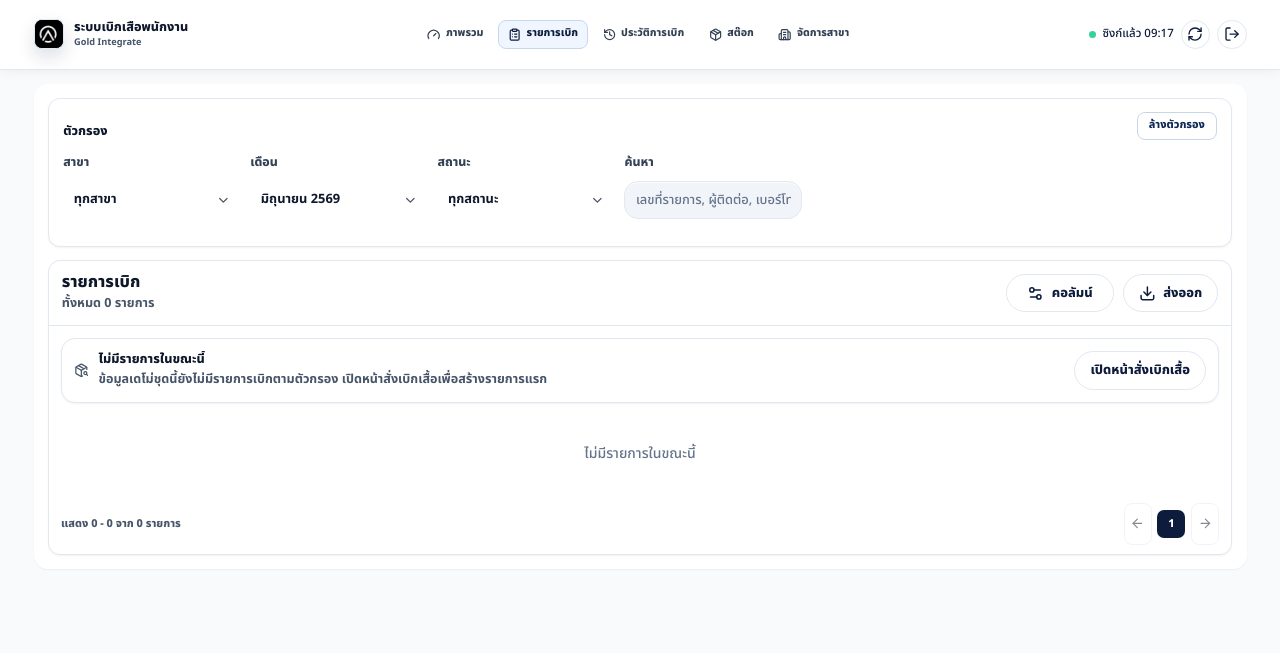
Test: dashboard workflow › shows the overview empty state and quick link for a new demo dataset
The width and height of the screenshot is (1280, 653).
Step 1. Click the button "ภาพรวม" → [455, 34], box left=417, top=20, right=494, bottom=49
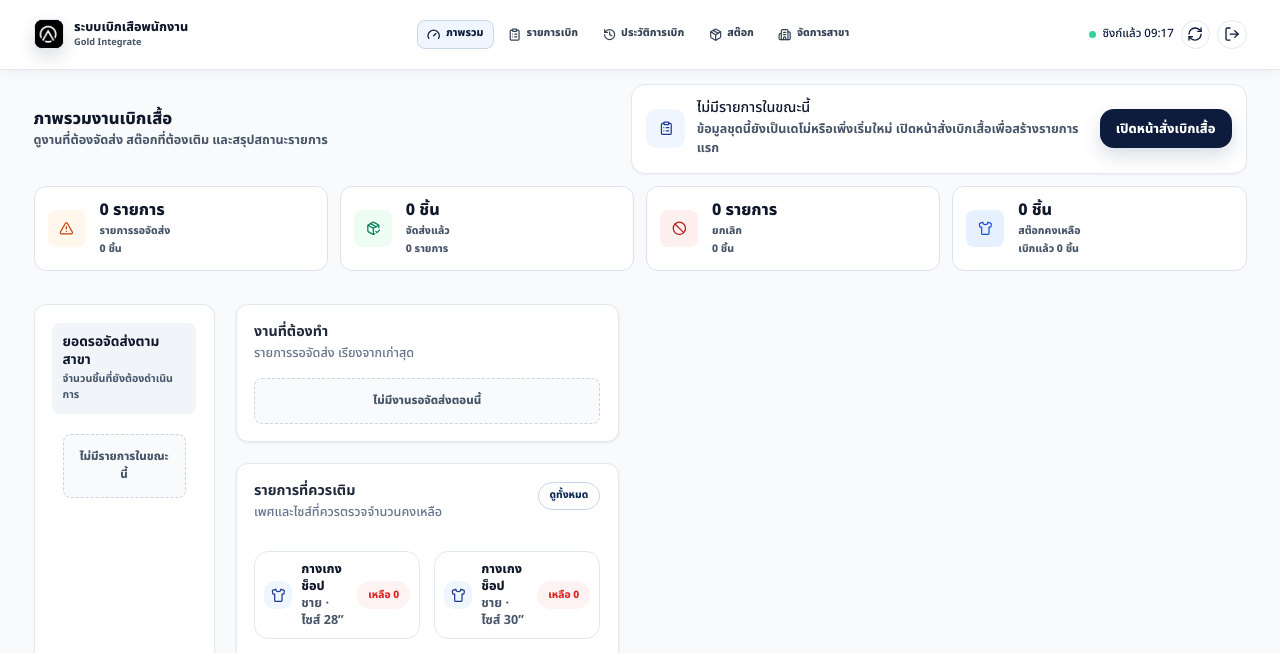
Expected: the button "เปิดหน้าสั่งเบิกเสื้อ" is shown, left=1100, top=109, right=1232, bottom=148
Expected: the heading "ภาพรวมงานเบิกเสื้อ" is shown, left=34, top=106, right=172, bottom=131
Expected: the heading "ไม่มีรายการในขณะนี้" is shown, left=697, top=97, right=810, bottom=118
